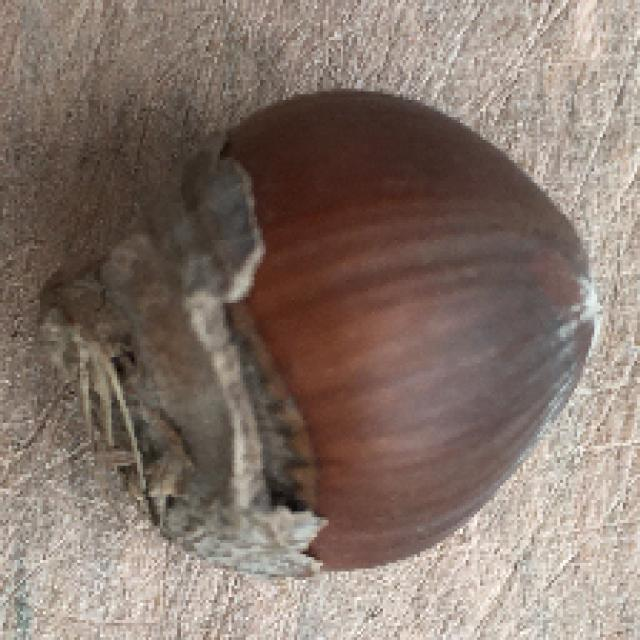damagedHazelnut: (46, 95, 600, 580)
